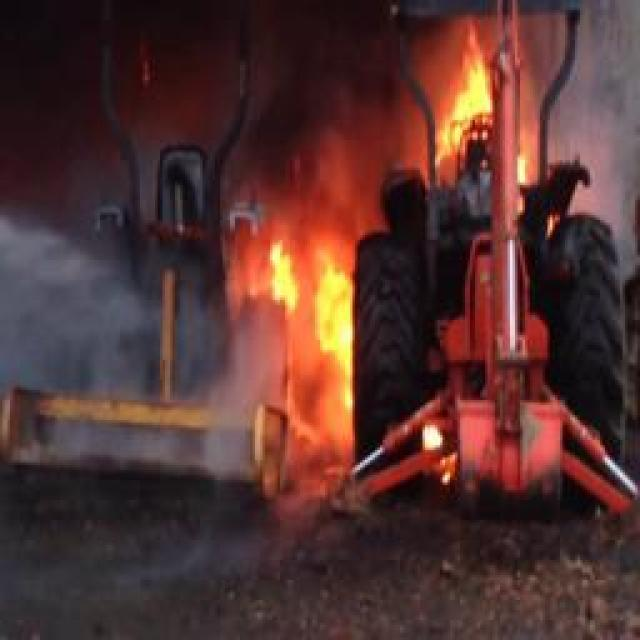Fire: (260, 207, 363, 452), (462, 25, 546, 184), (316, 264, 364, 446), (435, 57, 493, 187), (420, 420, 460, 485), (272, 242, 300, 315)
Smoke: (0, 0, 326, 196), (8, 238, 201, 436), (162, 294, 254, 569), (566, 17, 640, 165)
